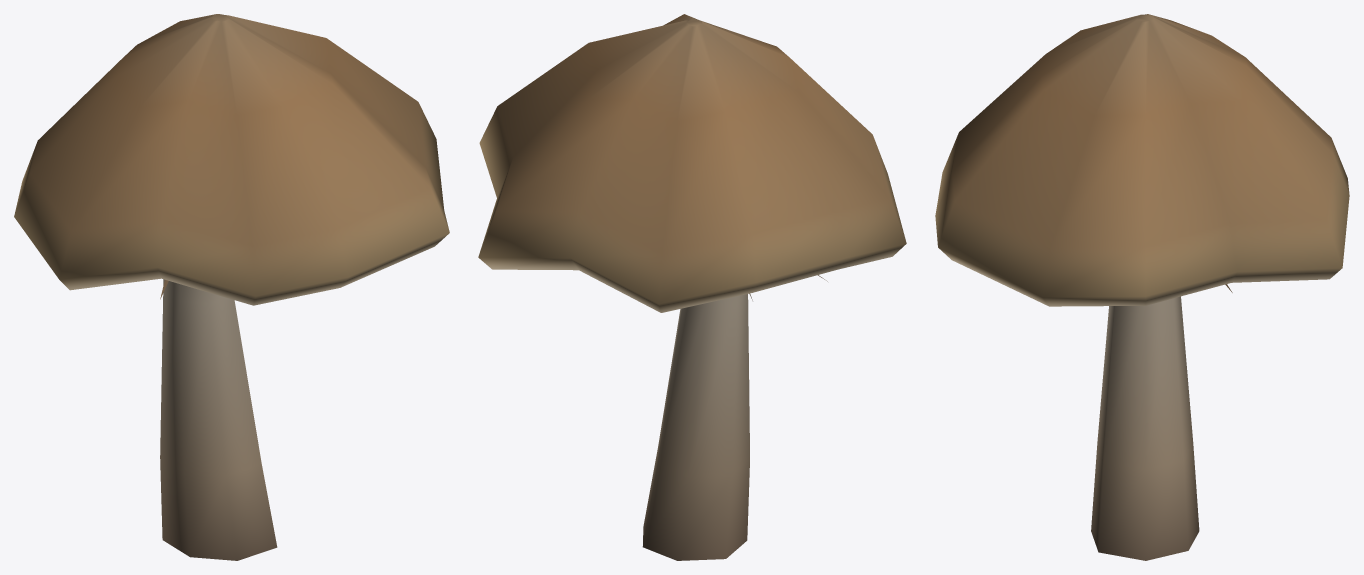
The model's file is glow.mushroom-v3.glb.
The picture shows the model from 3 angles, left to right: view 1: azimuth 30°, elevation 25°; view 2: azimuth 150°, elevation 25°; view 3: azimuth 270°, elevation 25°; orthographic projection.
Parts seen in each view (by area): view 1: glow.mushroom; view 2: glow.mushroom; view 3: glow.mushroom.
Boxes of the visible parts, box(x1,y1,x2,y2) form: glow.mushroom: box(14, 14, 449, 560); glow.mushroom: box(478, 14, 906, 560); glow.mushroom: box(935, 14, 1349, 560).
Size of the model in its own units: 0.8002 by 0.9861 by 0.7136.
